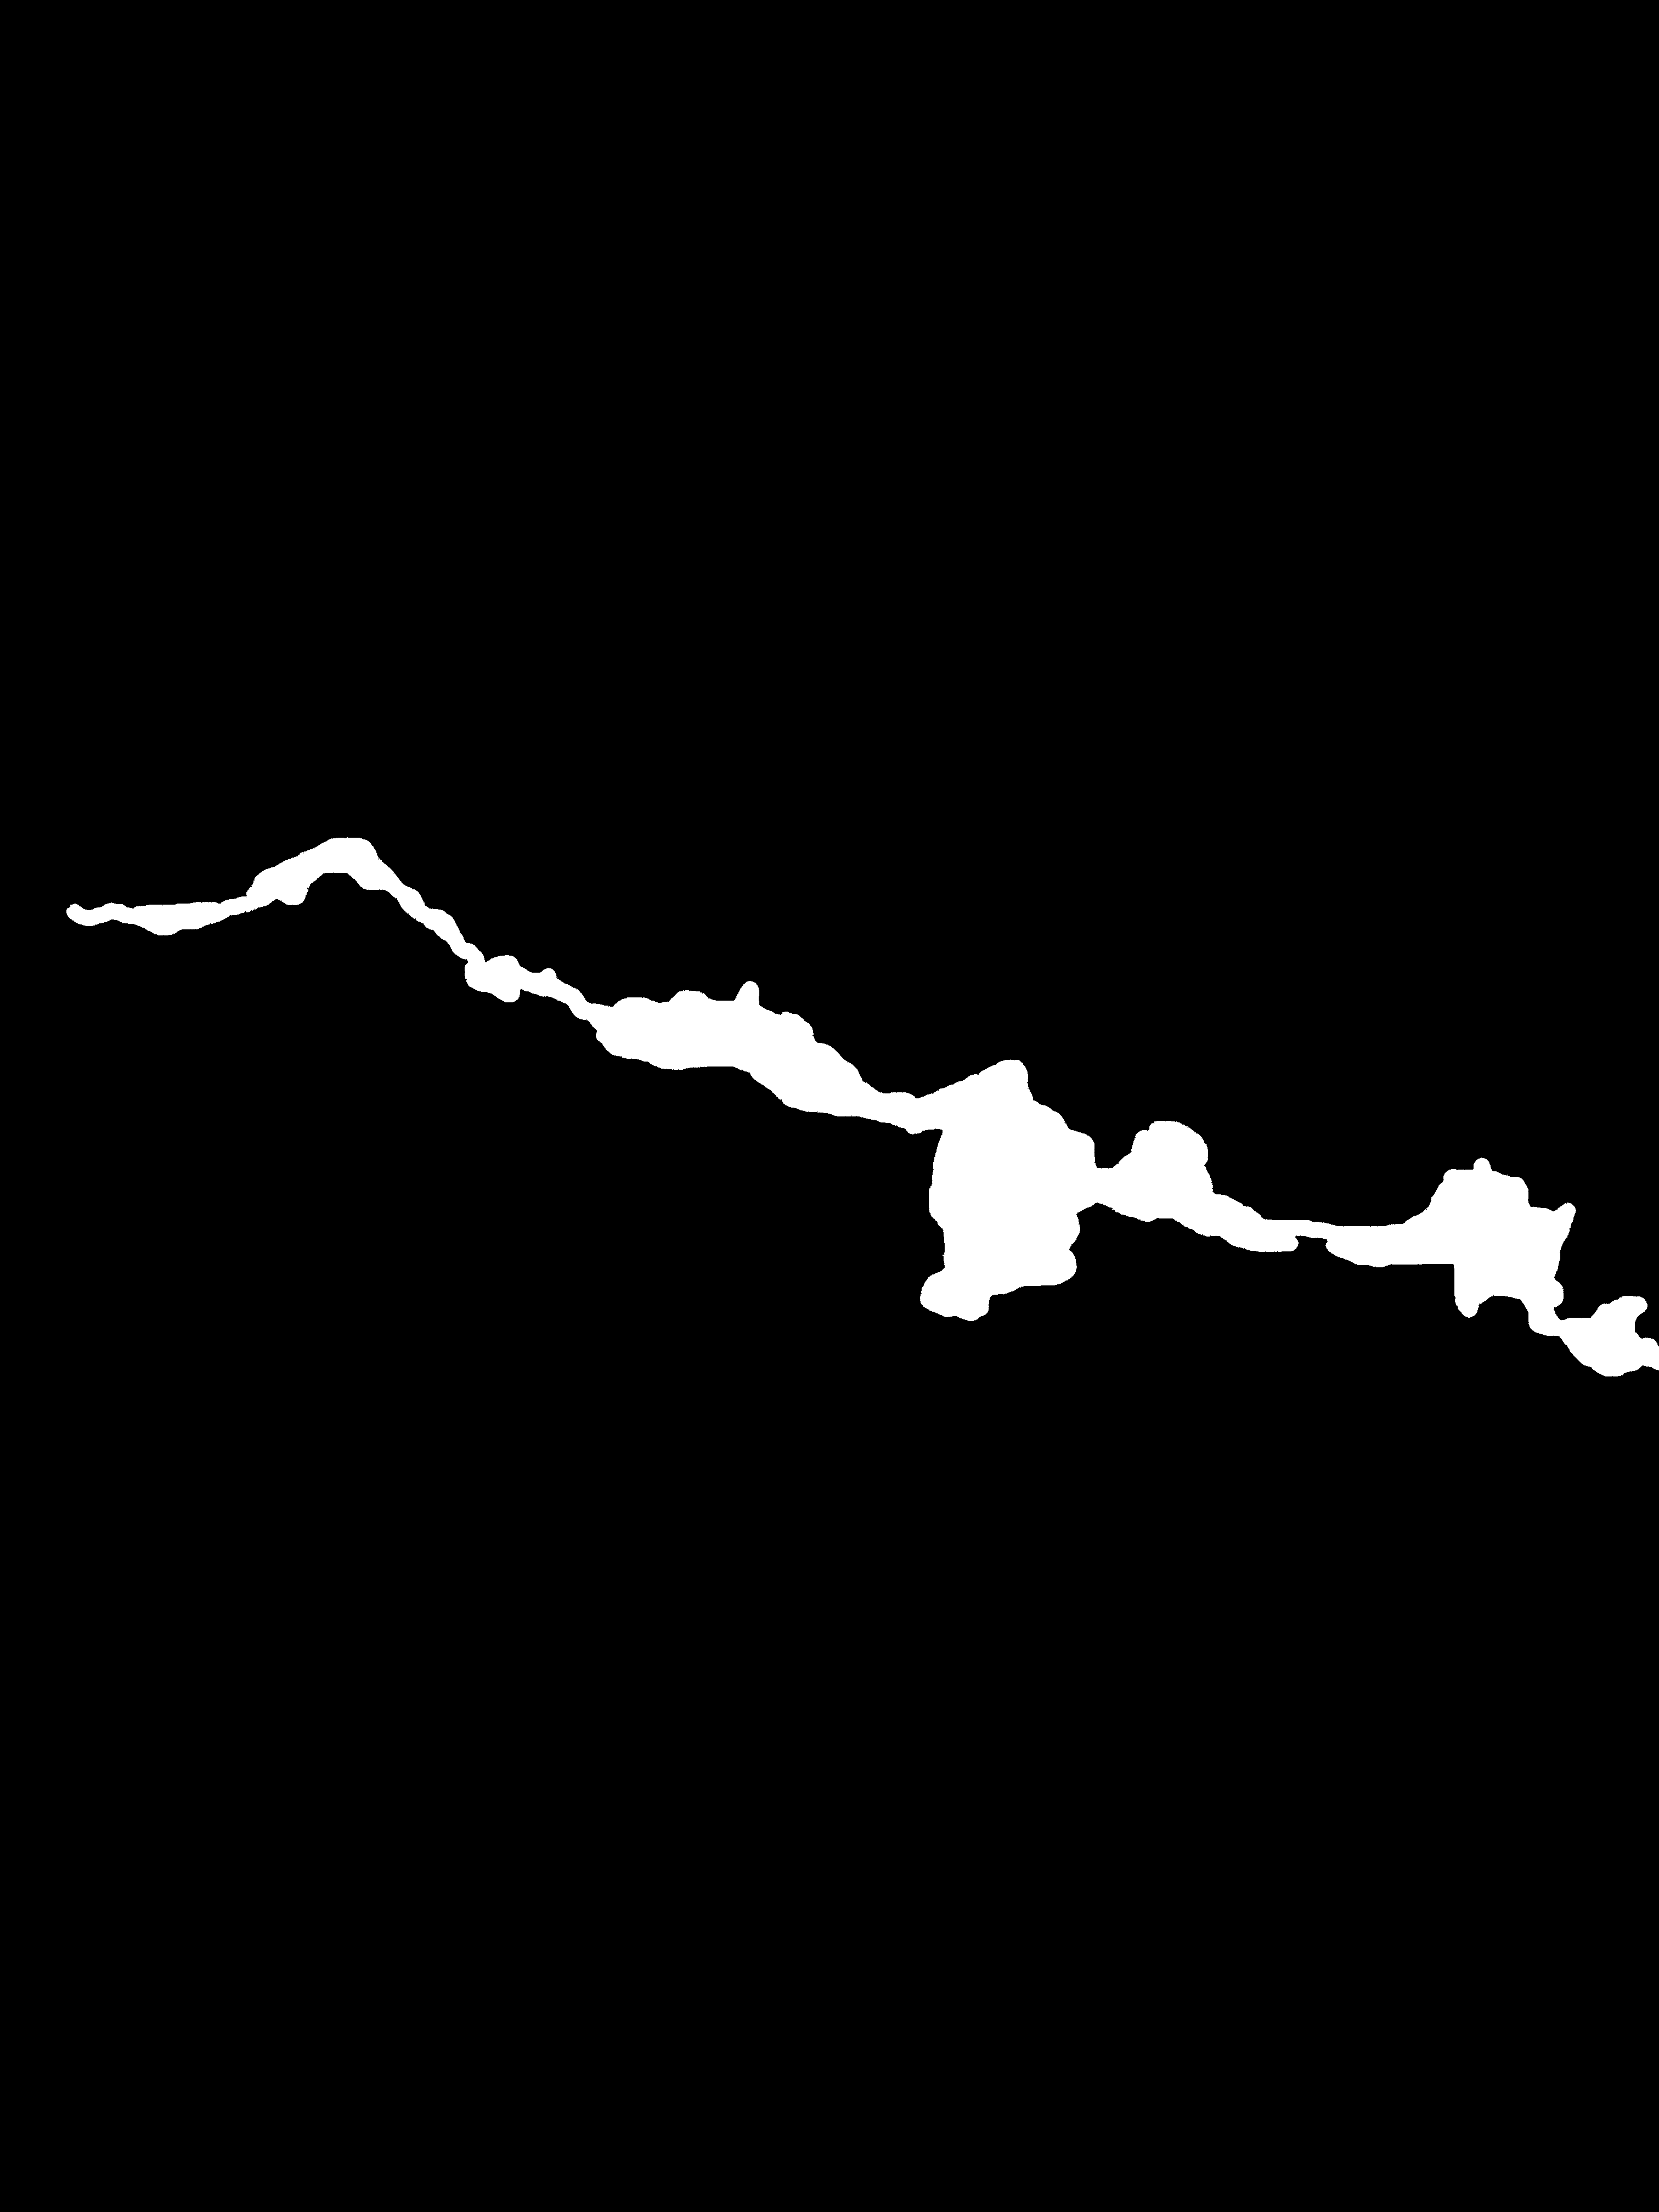Crack: (26, 780, 1659, 1420)
